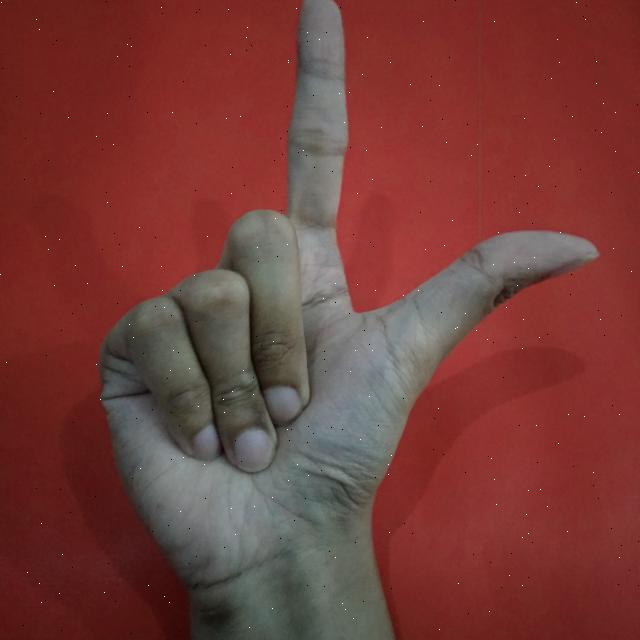L: (98, 0, 602, 640)
